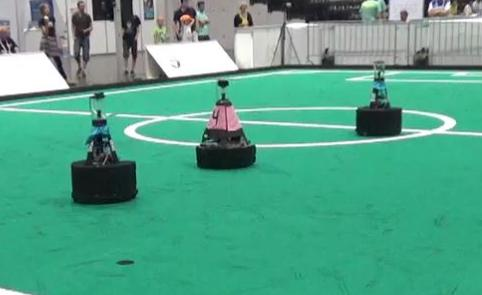robot: (67, 91, 140, 203), (190, 75, 263, 170), (351, 57, 407, 139)
